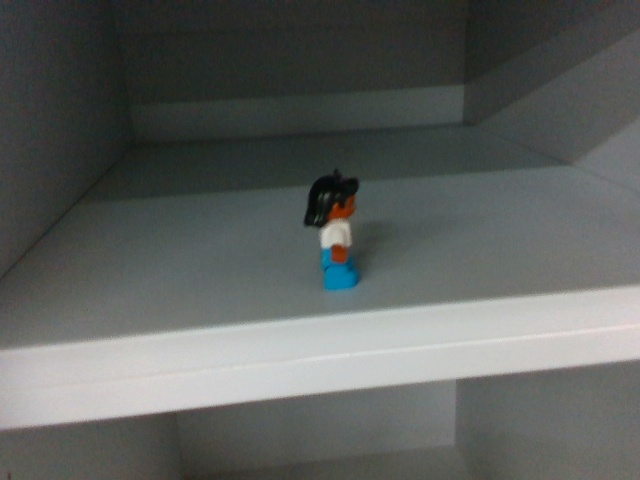people: (300, 171, 367, 292)
